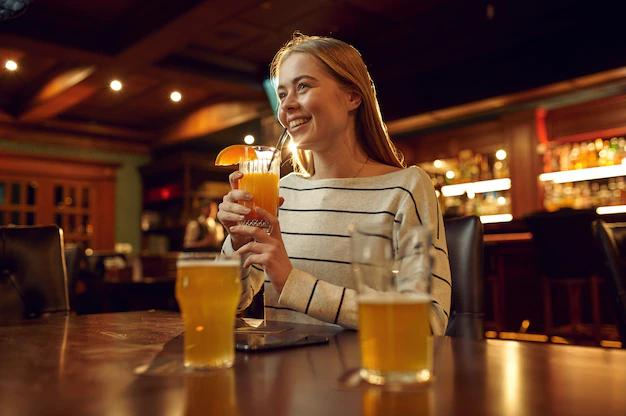not_helmet: (266, 25, 376, 166)
not_reflective: (207, 155, 455, 340)
